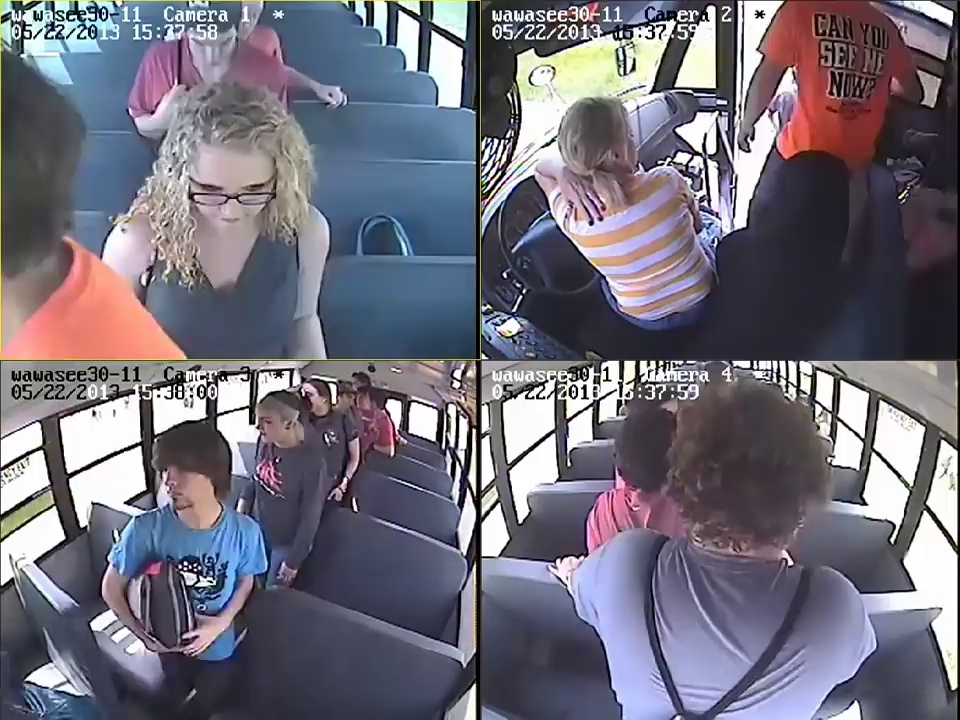face: (173, 149, 277, 242), (152, 450, 198, 514), (193, 36, 236, 69), (255, 410, 286, 443)
